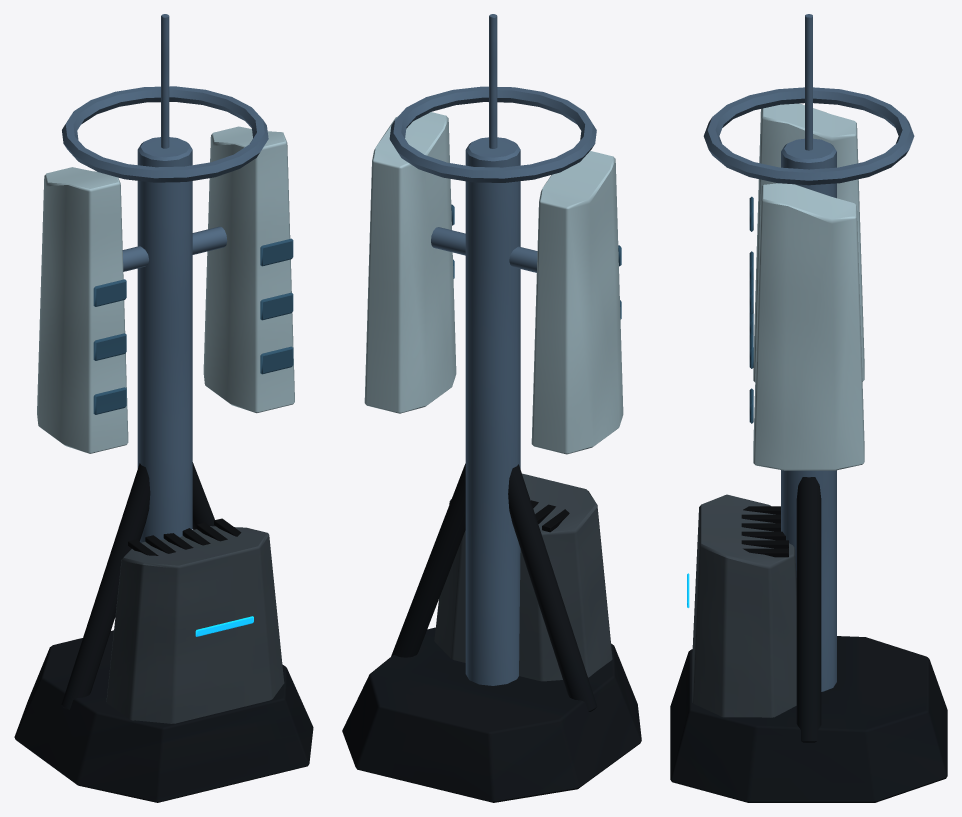
The model's file is Relay_Mast.fbx.
The picture shows the model from 3 angles, left to right: view 1: azimuth 30°, elevation 25°; view 2: azimuth 150°, elevation 25°; view 3: azimuth 270°, elevation 25°; orthographic projection.
Visible parts, largest first — view 1: Relay_Mast; view 2: Relay_Mast; view 3: Relay_Mast.
Part boxes in pixels (x1,y1,x2,y2): Relay_Mast: [14, 14, 313, 802]; Relay_Mast: [342, 14, 641, 802]; Relay_Mast: [670, 14, 947, 802].
Size of the model in its own units: 1.79 by 5.2 by 1.79.
